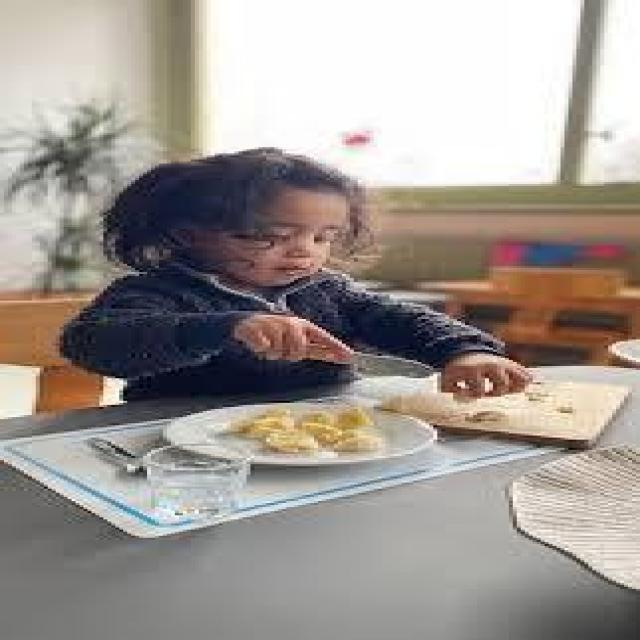child: (56, 143, 545, 397)
